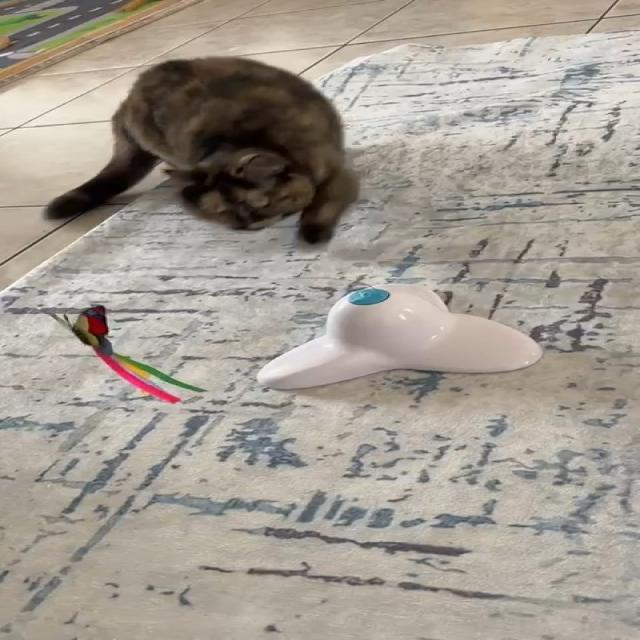authorized: (43, 55, 360, 245)
